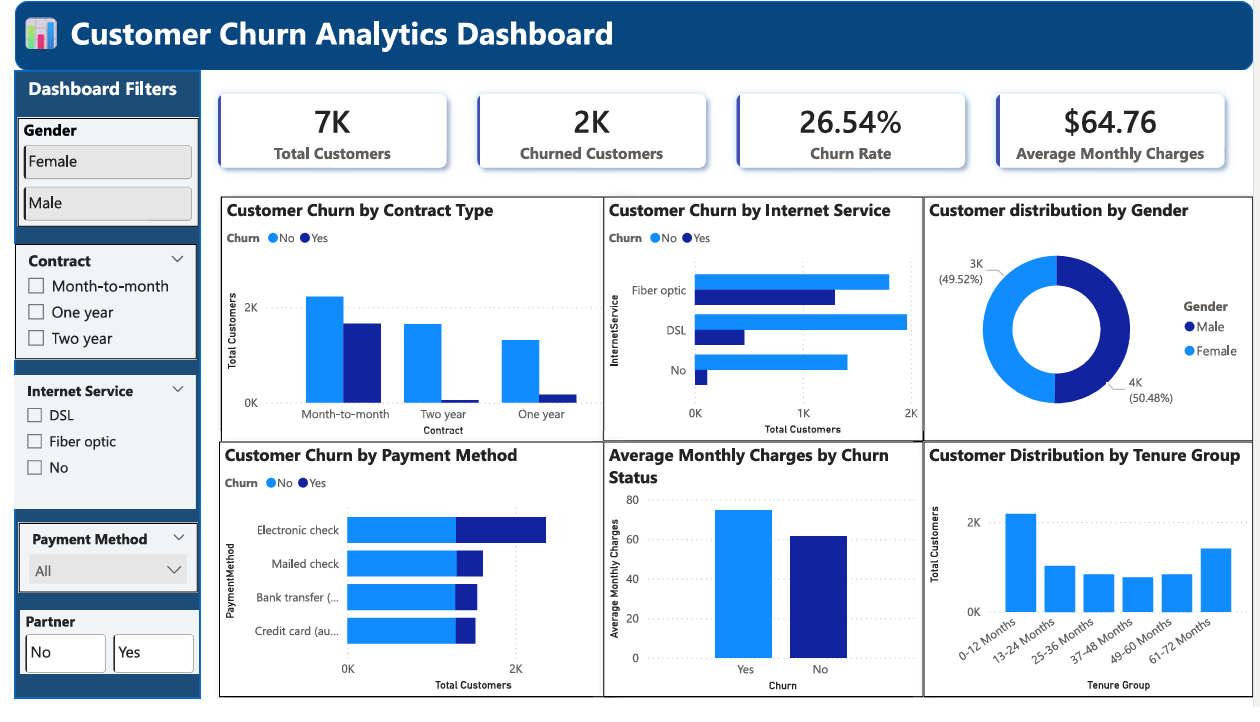

The dashboard page shown, as its layout file describes it:
{"tool":"powerbi","page":{"name":"Page 1","canvas":[1280,720],"ordinal":0},"visuals":[{"type":"shape","box":[0,0,1280.2,72.1],"z":0},{"type":"textbox","box":[0,4.7,1183.7,62.8],"z":1000},{"type":"cardVisual","fields":{"Data":["customer_churn_cleaned.Total Customers","customer_churn_cleaned.Churned Customers","customer_churn_cleaned.Churn Rate","customer_churn_cleaned.Average Monthly Charges"]},"box":[181.4,67.4,1098.8,134.9],"z":2000},{"type":"shape","box":[0,72.2,192.2,647.8],"z":3000},{"type":"advancedSlicerVisual","fields":{"Values":["customer_churn_cleaned.gender"]},"box":[3.3,121.1,186.7,112.2],"z":4000},{"type":"textbox","box":[0,72.2,181.1,35.6],"z":5000},{"type":"slicer","fields":{"Values":["customer_churn_cleaned.Contract"]},"box":[0,251.1,187.8,118.9],"z":6000},{"type":"slicer","fields":{"Values":["customer_churn_cleaned.InternetService"]},"box":[0,386.7,186.7,137.8],"z":7000},{"type":"slicer","fields":{"Values":["customer_churn_cleaned.PaymentMethod"]},"box":[4.4,538.9,184.4,72.2],"z":8000},{"type":"advancedSlicerVisual","fields":{"Values":["customer_churn_cleaned.Partner"]},"box":[5.6,628.9,184.4,65.6],"z":9000},{"type":"clusteredColumnChart","title":"Customer Churn by Contract Type ","fields":{"Series":["customer_churn_cleaned.Churn"],"Y":["customer_churn_cleaned.Total Customers"],"Category":["customer_churn_cleaned.Contract"]},"box":[212.8,202.3,418.6,253.5],"z":10000},{"type":"clusteredBarChart","title":"Customer Churn by Internet Service ","fields":{"Series":["customer_churn_cleaned.Churn"],"Y":["customer_churn_cleaned.Total Customers"],"Category":["customer_churn_cleaned.InternetService"]},"box":[607.6,201.7,331.4,253.4],"z":11000},{"type":"barChart","title":"Customer Churn by Payment Method ","fields":{"Category":["customer_churn_cleaned.PaymentMethod"],"Y":["customer_churn_cleaned.Total Customers"],"Series":["customer_churn_cleaned.Churn"]},"box":[211.3,455.1,405.9,264.2],"z":12000},{"type":"clusteredColumnChart","title":"Average Monthly Charges by Churn Status","fields":{"Y":["customer_churn_cleaned.Average Monthly Charges"],"Category":["customer_churn_cleaned.Churn"]},"box":[607.6,455.1,331.4,264.2],"z":12001},{"type":"donutChart","title":"Customer distribution by Gender","fields":{"Category":["customer_churn_cleaned.gender"],"Y":["customer_churn_cleaned.Total Customers"]},"box":[939,201.7,341,253.4],"z":12002},{"type":"clusteredColumnChart","title":"Customer Distribution by Tenure Group","fields":{"Y":["customer_churn_cleaned.Total Customers"],"Category":["customer_churn_cleaned.Tenure Group"]},"box":[939,455.1,341,264.2],"z":12003}]}

Visuals, with their boxes in screenshot pixels (x1, y1, x2, y2), scaled from the page's 1280x720 canvas onto the 1260x722 screenshot:
shape: {"left": 0, "top": 0, "right": 1259, "bottom": 72}
textbox: {"left": 0, "top": 5, "right": 1165, "bottom": 68}
cardVisual - customer_churn_cleaned.Total Customers x customer_churn_cleaned.Churned Customers: {"left": 179, "top": 68, "right": 1259, "bottom": 203}
shape: {"left": 0, "top": 72, "right": 189, "bottom": 721}
advancedSlicerVisual - customer_churn_cleaned.gender: {"left": 3, "top": 121, "right": 187, "bottom": 234}
textbox: {"left": 0, "top": 72, "right": 178, "bottom": 108}
slicer - customer_churn_cleaned.Contract: {"left": 0, "top": 252, "right": 185, "bottom": 371}
slicer - customer_churn_cleaned.InternetService: {"left": 0, "top": 388, "right": 184, "bottom": 526}
slicer - customer_churn_cleaned.PaymentMethod: {"left": 4, "top": 540, "right": 186, "bottom": 613}
advancedSlicerVisual - customer_churn_cleaned.Partner: {"left": 6, "top": 631, "right": 187, "bottom": 696}
"Customer Churn by Contract Type " clusteredColumnChart: {"left": 209, "top": 203, "right": 622, "bottom": 457}
"Customer Churn by Internet Service " clusteredBarChart: {"left": 598, "top": 202, "right": 924, "bottom": 456}
"Customer Churn by Payment Method " barChart: {"left": 208, "top": 456, "right": 608, "bottom": 721}
"Average Monthly Charges by Churn Status" clusteredColumnChart: {"left": 598, "top": 456, "right": 924, "bottom": 721}
"Customer distribution by Gender" donutChart: {"left": 924, "top": 202, "right": 1259, "bottom": 456}
"Customer Distribution by Tenure Group" clusteredColumnChart: {"left": 924, "top": 456, "right": 1259, "bottom": 721}
